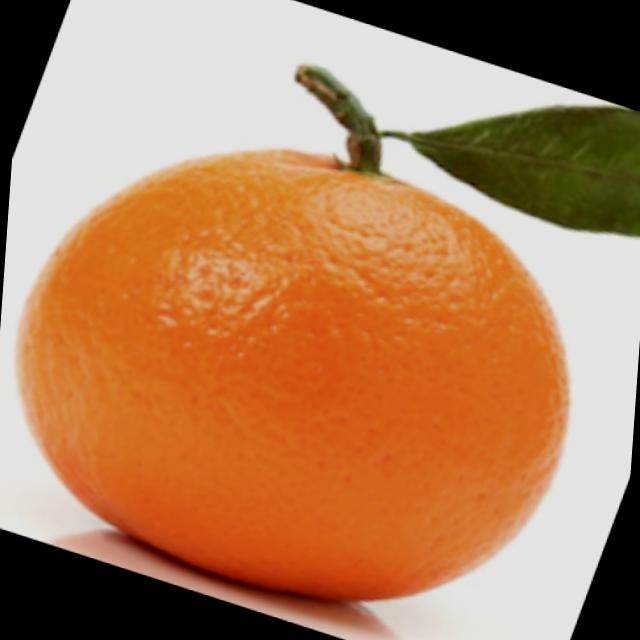orange: (0, 61, 605, 614)
